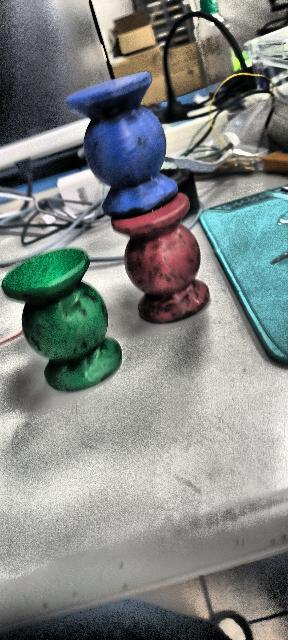blue: (66, 70, 178, 218)
green: (2, 249, 128, 407)
red: (106, 213, 222, 329)
